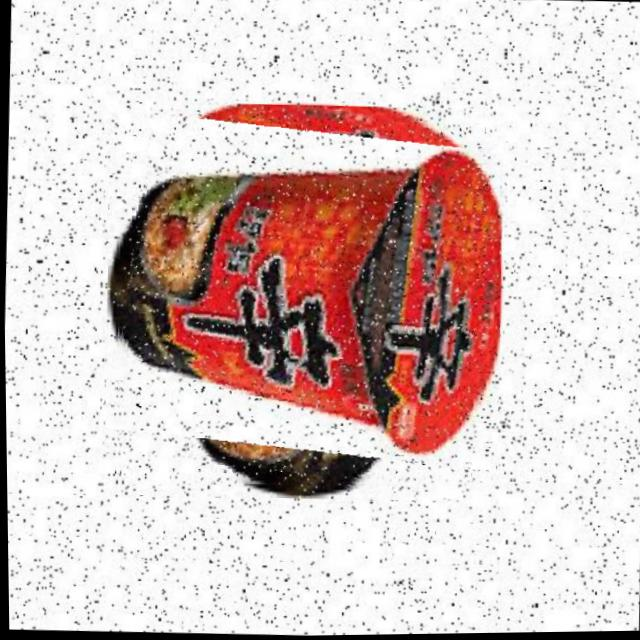Miscellaneous: (105, 97, 508, 499)
